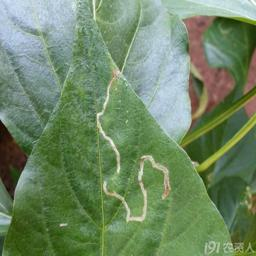liriomyza: (95, 67, 171, 223)
